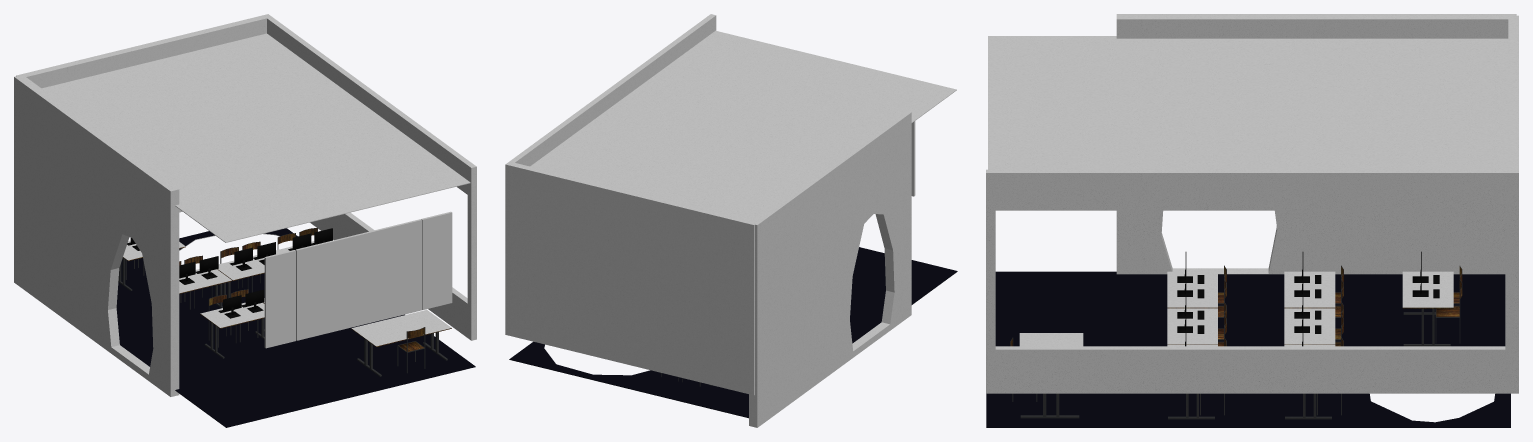
File: salle_classe_haut07.obj
3 renders of one model, left to right at view 1: azimuth 30°, elevation 25°; view 2: azimuth 150°, elevation 25°; view 3: azimuth 270°, elevation 25°, orthographic. The views are drawn at different scales.
Parts seen in each view (by area): view 1: plafond_classe.021; view 2: plafond_classe.021; view 3: plafond_classe.021.
Part boxes in pixels (<box>): plafond_classe.021: <box>14,14,476,427</box>; plafond_classe.021: <box>505,14,957,427</box>; plafond_classe.021: <box>986,14,1518,427</box>.
Bounding box in the file's own units: 14.77 × 11.39 × 20.93.
Materials: 6 (3 with a texture image).
